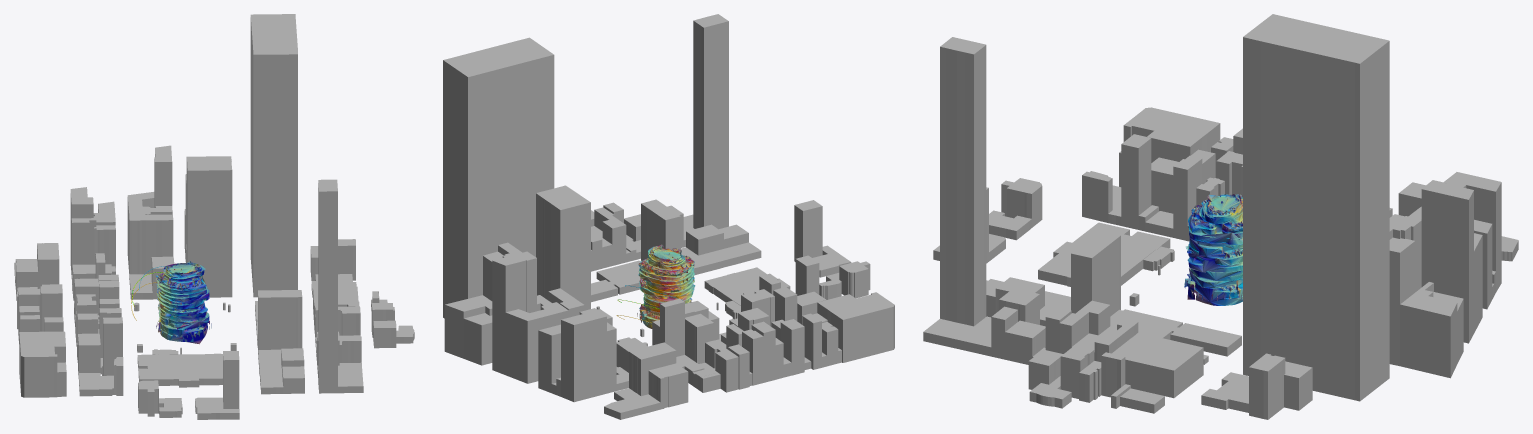
The model's file is solar_radiation.glb.
3 renders of one model, left to right at view 1: azimuth 30°, elevation 25°; view 2: azimuth 150°, elevation 25°; view 3: azimuth 270°, elevation 25°, orthographic. The views are drawn at different scales.
Visible parts, largest first — view 1: world; view 2: world; view 3: world.
Boxes of the visible parts, <box> form: world: <box>14,14,414,419</box>; world: <box>443,14,894,419</box>; world: <box>923,14,1518,419</box>.
Bounding box in the file's own units: 5948 × 3719 × 5850.
